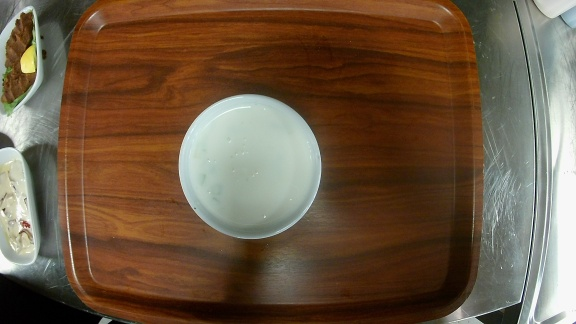cacik: (178, 93, 323, 240)
